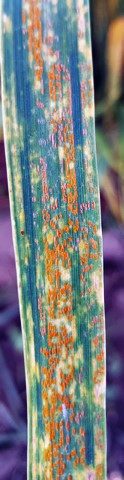Leaf Rust: (10, 9, 124, 471)
